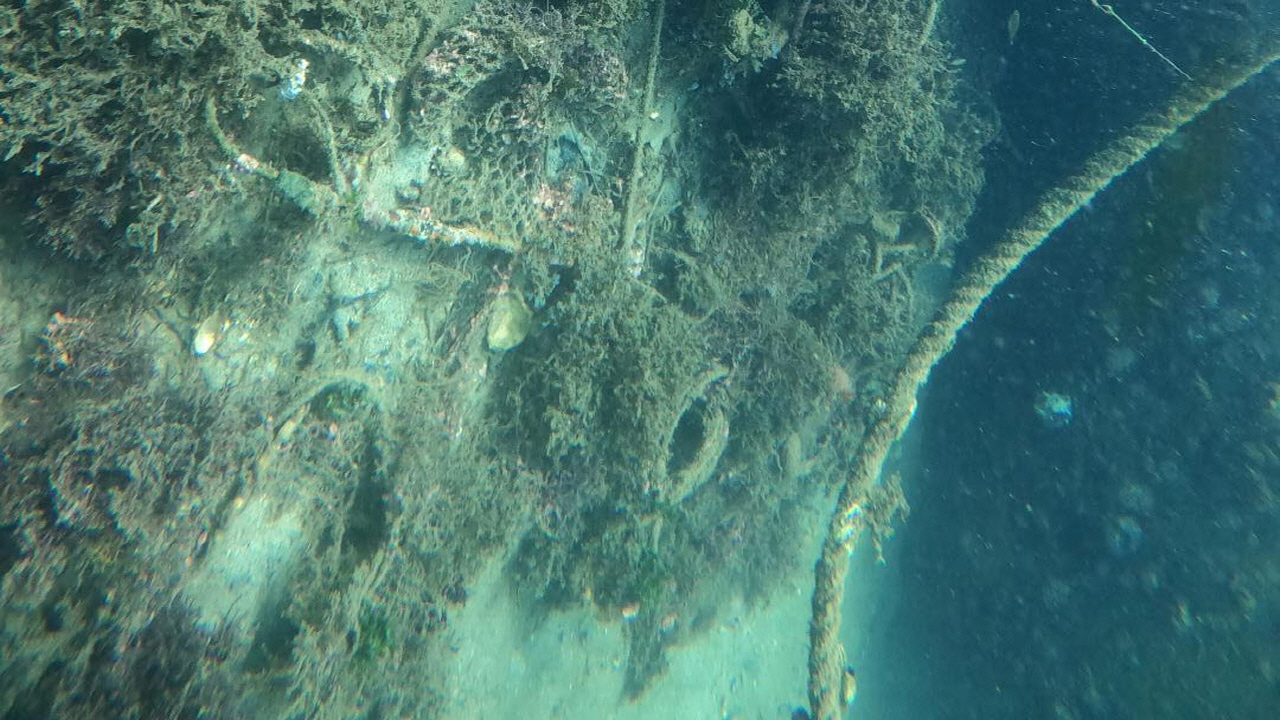rope: (804, 25, 1278, 720)
